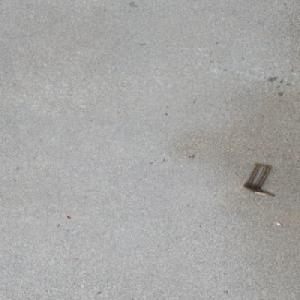MetalPart: (241, 162, 276, 196)
